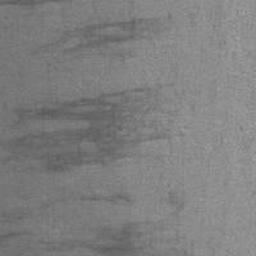Water spot: (0, 82, 183, 174), (37, 189, 197, 256), (29, 14, 173, 56), (0, 188, 140, 228), (0, 230, 32, 248), (0, 0, 61, 6)
